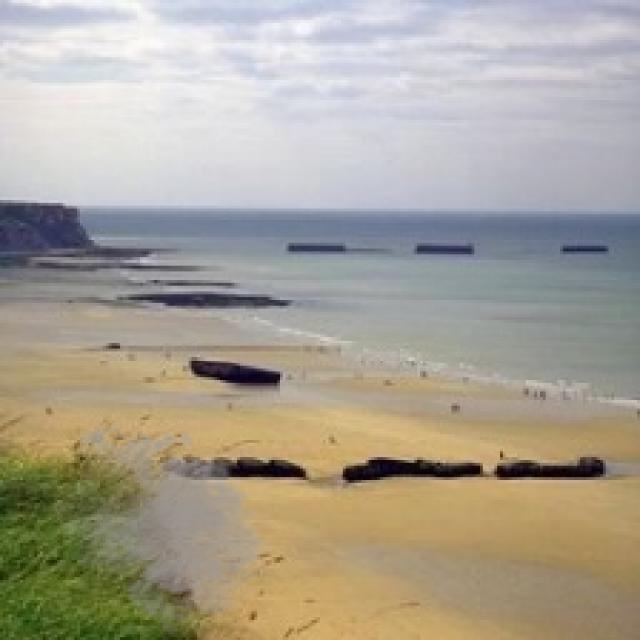smoke: (49, 420, 274, 637)
